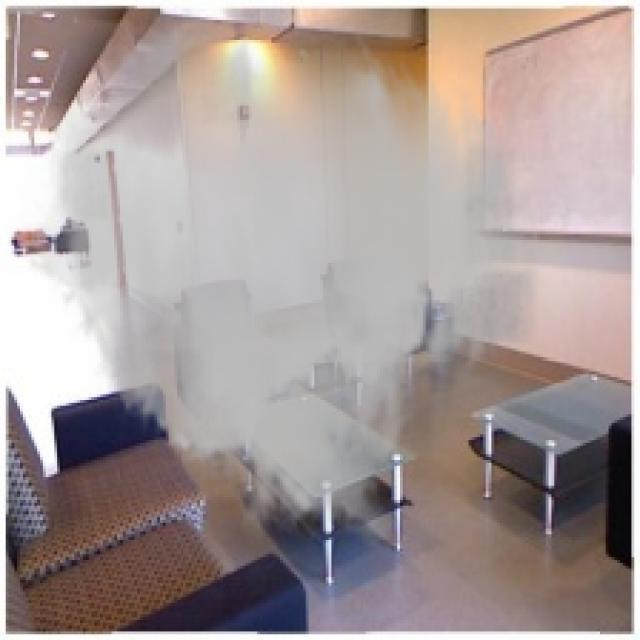Smoke: (17, 14, 546, 552)
